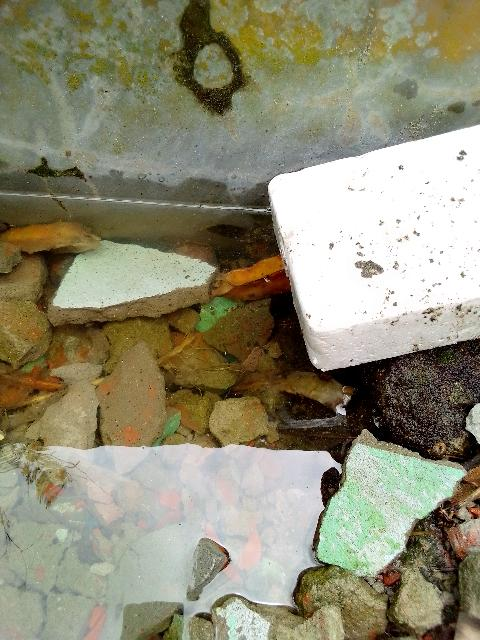cocksheet: (251, 126, 480, 377)
